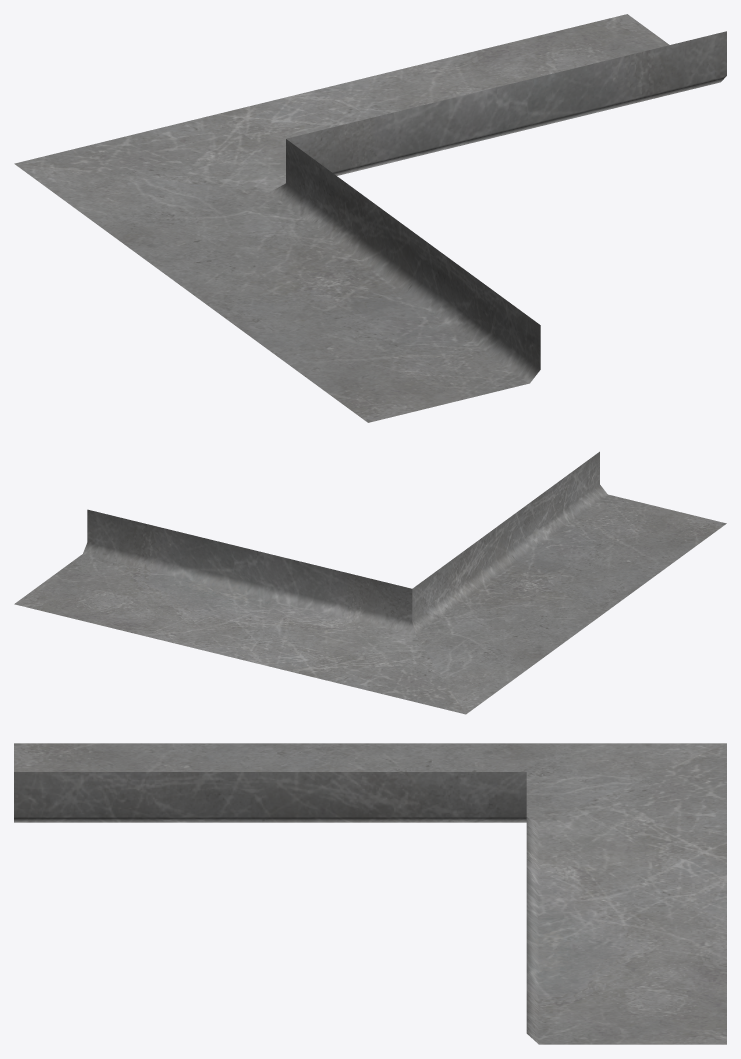
The model's file is Psychiatric_Ward_Infirmary_Ceiling_Crowning_Corner_A.glb.
The picture shows the model from 3 angles, top to bottom: view 1: azimuth 30°, elevation 25°; view 2: azimuth 150°, elevation 25°; view 3: azimuth 270°, elevation 25°; orthographic projection. The views are drawn at different scales.
Parts seen in each view (by area): view 1: Psychiatric_Ward_Infirmary_Ceiling_Crowning_Corner_A; view 2: Psychiatric_Ward_Infirmary_Ceiling_Crowning_Corner_A; view 3: Psychiatric_Ward_Infirmary_Ceiling_Crowning_Corner_A.
Part boxes in pixels (<box>): Psychiatric_Ward_Infirmary_Ceiling_Crowning_Corner_A: <box>14,14,726,422</box>; Psychiatric_Ward_Infirmary_Ceiling_Crowning_Corner_A: <box>14,451,726,714</box>; Psychiatric_Ward_Infirmary_Ceiling_Crowning_Corner_A: <box>14,743,726,1044</box>.
Size of the model in its own units: 2 by 0.1736 by 2.
Materials: 1 (1 with a texture image).
